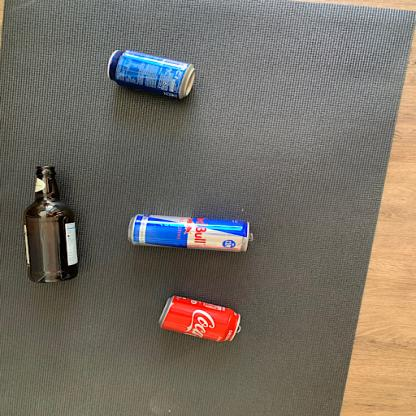trash: (21, 162, 81, 284), (125, 213, 254, 254), (106, 48, 198, 102), (158, 296, 244, 344)
